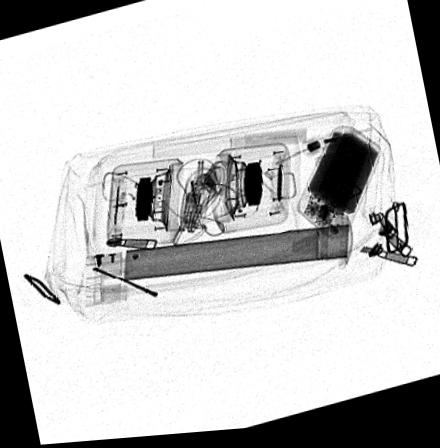Powerbank: (294, 129, 381, 239)
